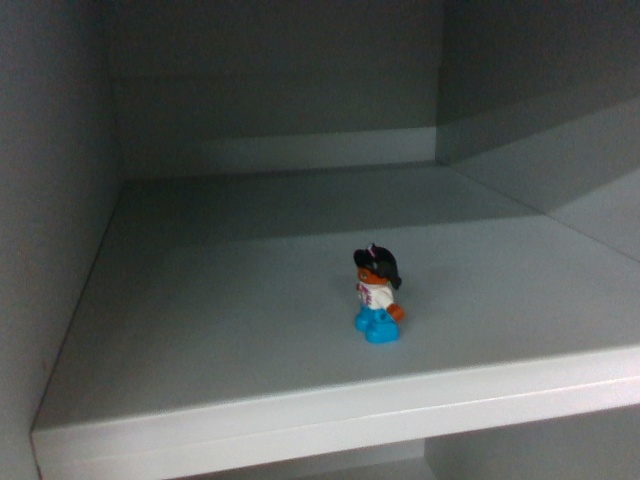people: (346, 244, 407, 346)
